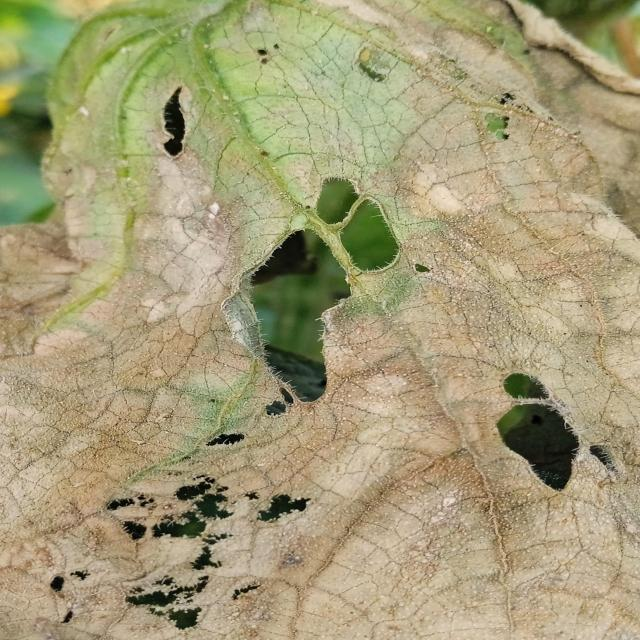cucumber_anthracnose: (52, 37, 616, 628)
